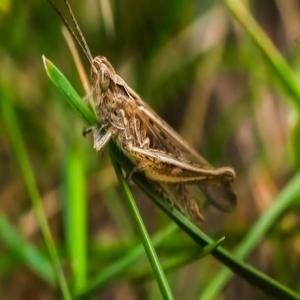locust: (67, 12, 257, 259)
